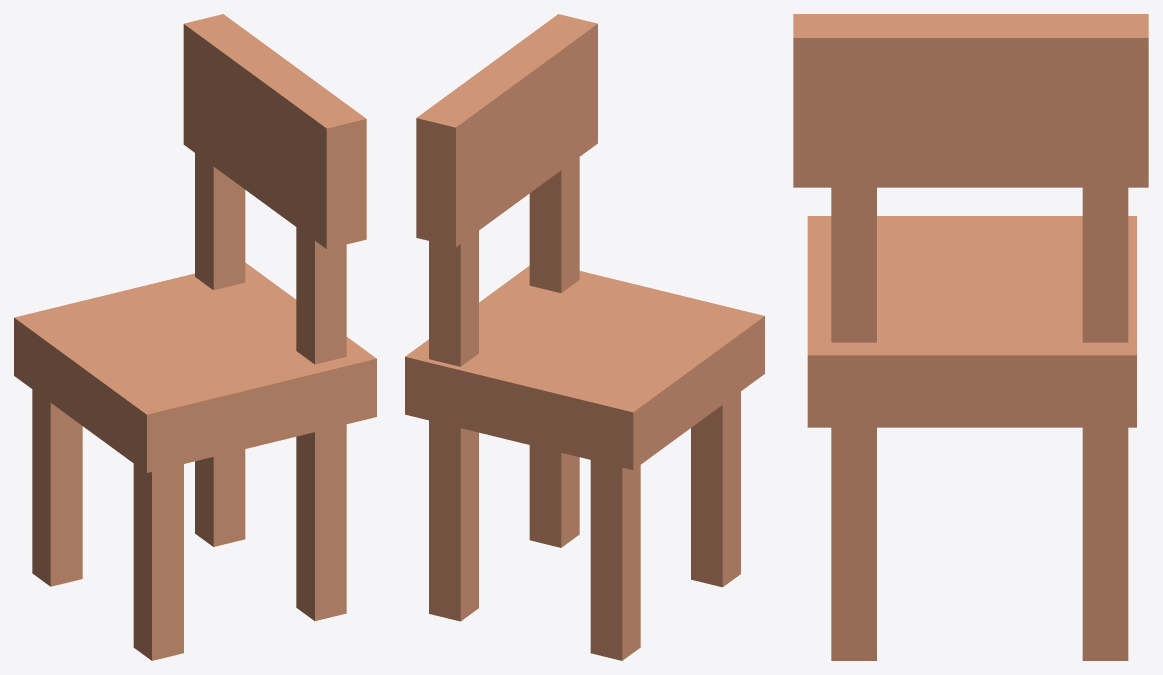
The model's file is Chair1.glb.
3 renders of one model, left to right at view 1: azimuth 30°, elevation 25°; view 2: azimuth 150°, elevation 25°; view 3: azimuth 270°, elevation 25°, orthographic. The views are drawn at different scales.
Parts seen in each view (by area): view 1: Cube.014; view 2: Cube.014; view 3: Cube.014.
Part boxes in pixels (bbox=[...]): Cube.014: bbox=[14, 14, 376, 660]; Cube.014: bbox=[405, 14, 764, 660]; Cube.014: bbox=[793, 14, 1148, 660].
Size of the model in its own units: 0.4316 by 0.905 by 0.4656.
